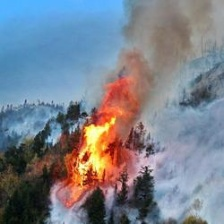fire: (71, 120, 122, 185)
smoke: (98, 1, 215, 106)
